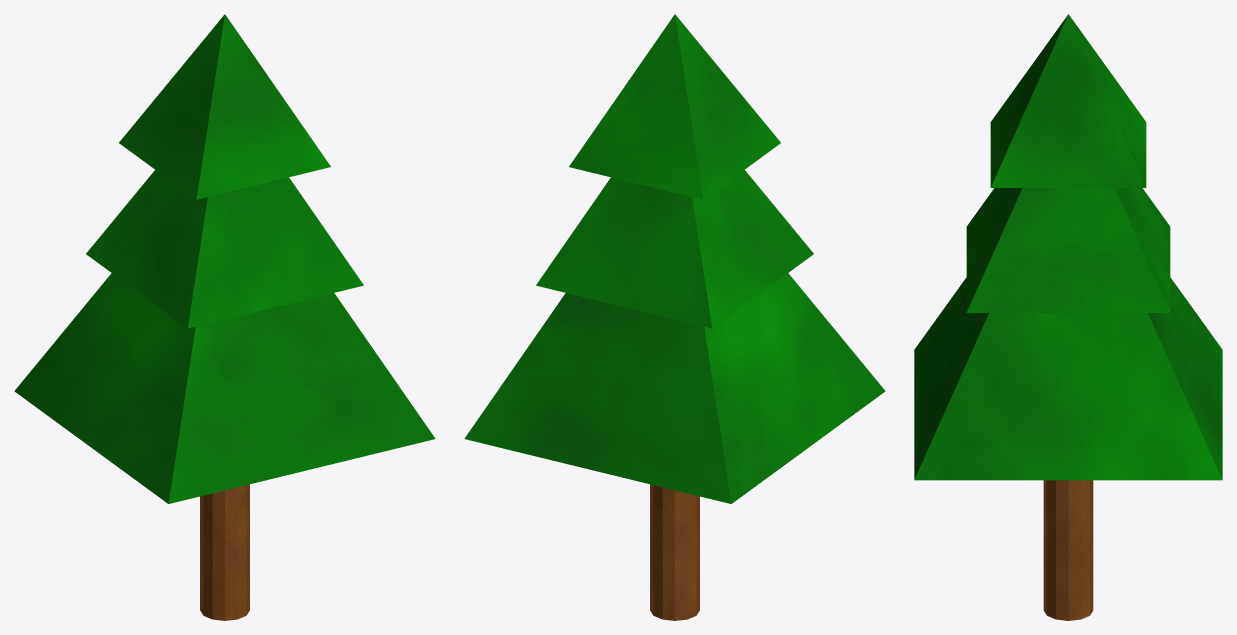
File: tree4.fbx
3 views of the same model, side by side, from view 1: azimuth 30°, elevation 25°; view 2: azimuth 150°, elevation 25°; view 3: azimuth 270°, elevation 25° (orthographic).
Parts seen in each view (by area): view 1: Zylinder_1; view 2: Zylinder_1; view 3: Zylinder_1.
Boxes of the visible parts, x1,y1,x2,y2 form: Zylinder_1: (14, 14, 435, 620); Zylinder_1: (464, 14, 885, 620); Zylinder_1: (914, 14, 1222, 620).
Size of the model in its own units: 259 by 552 by 259.
